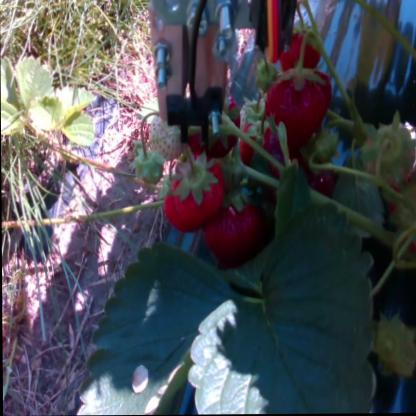ripe: (268, 74, 337, 131), (208, 197, 267, 261), (170, 157, 224, 223), (277, 26, 323, 72)
unripe: (144, 114, 181, 155)
